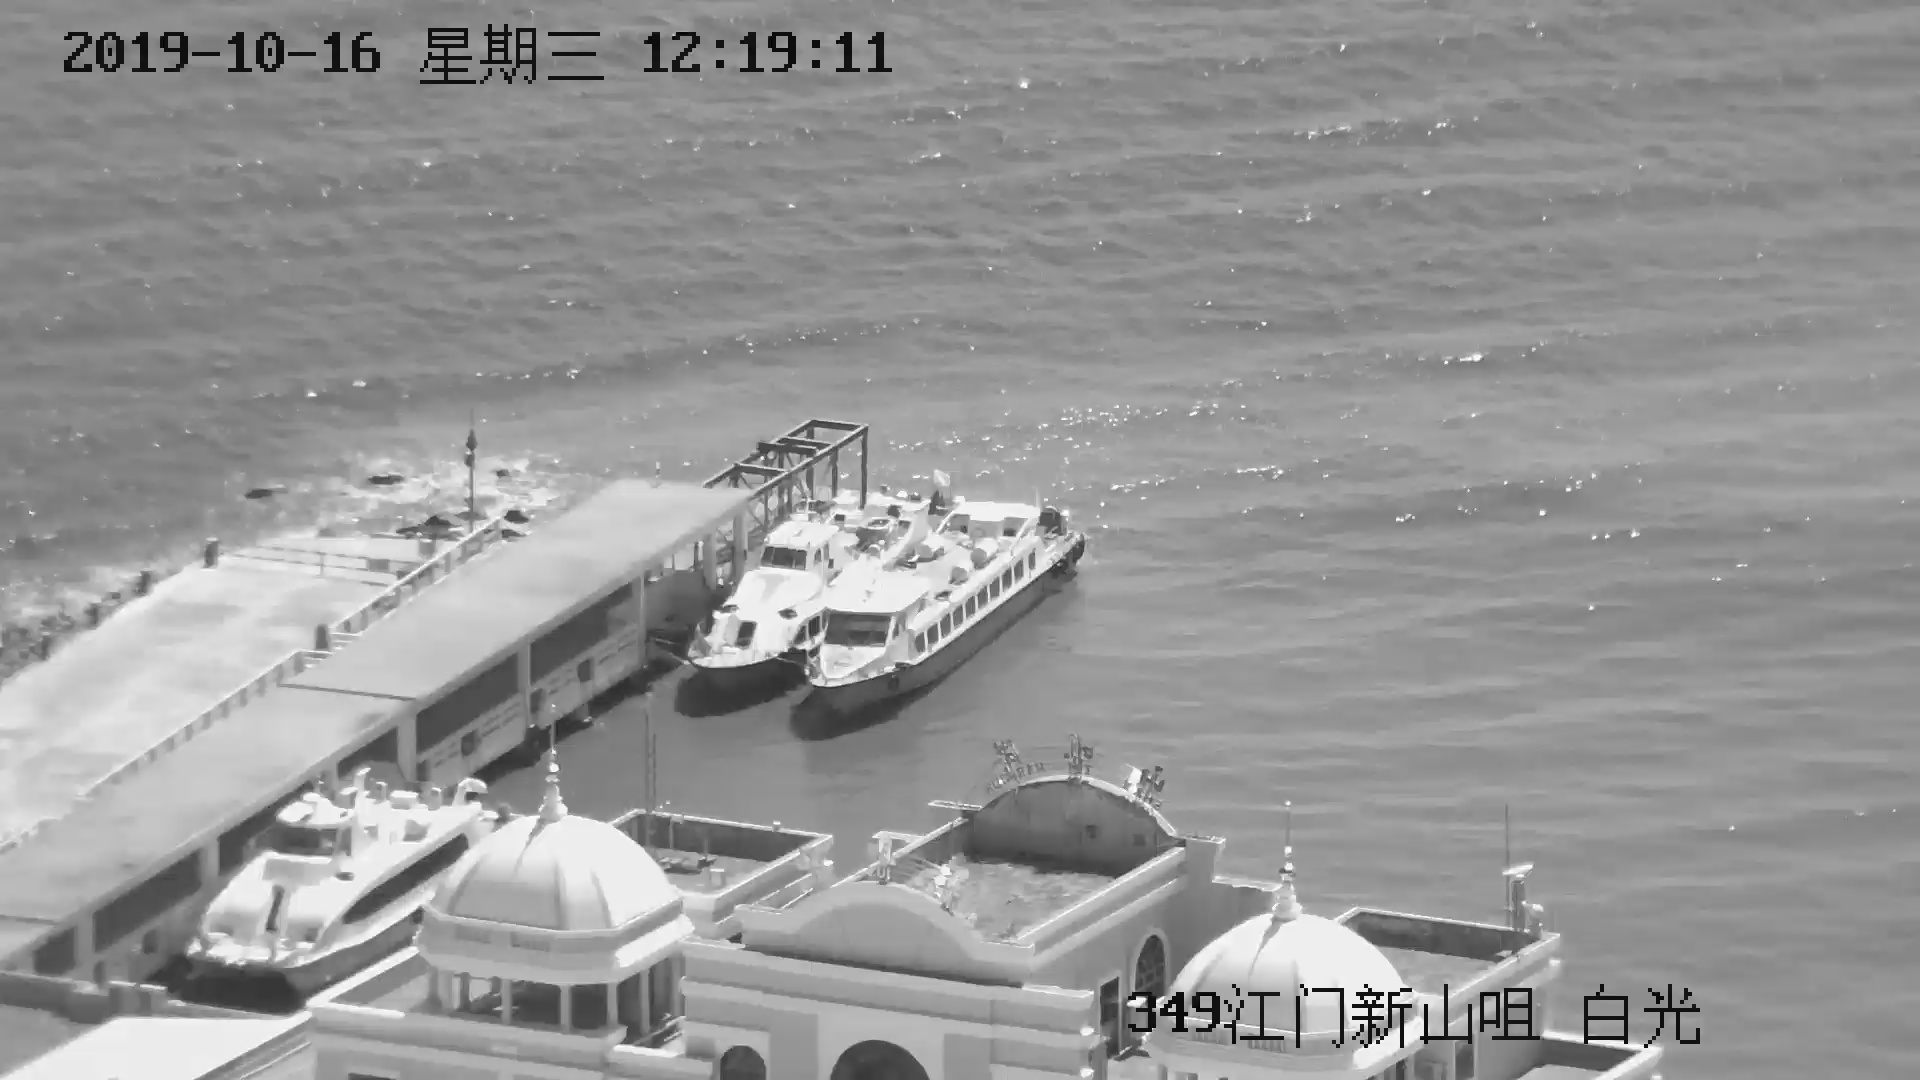ship: (779, 491, 1089, 708), (191, 756, 485, 978), (682, 517, 848, 675)
